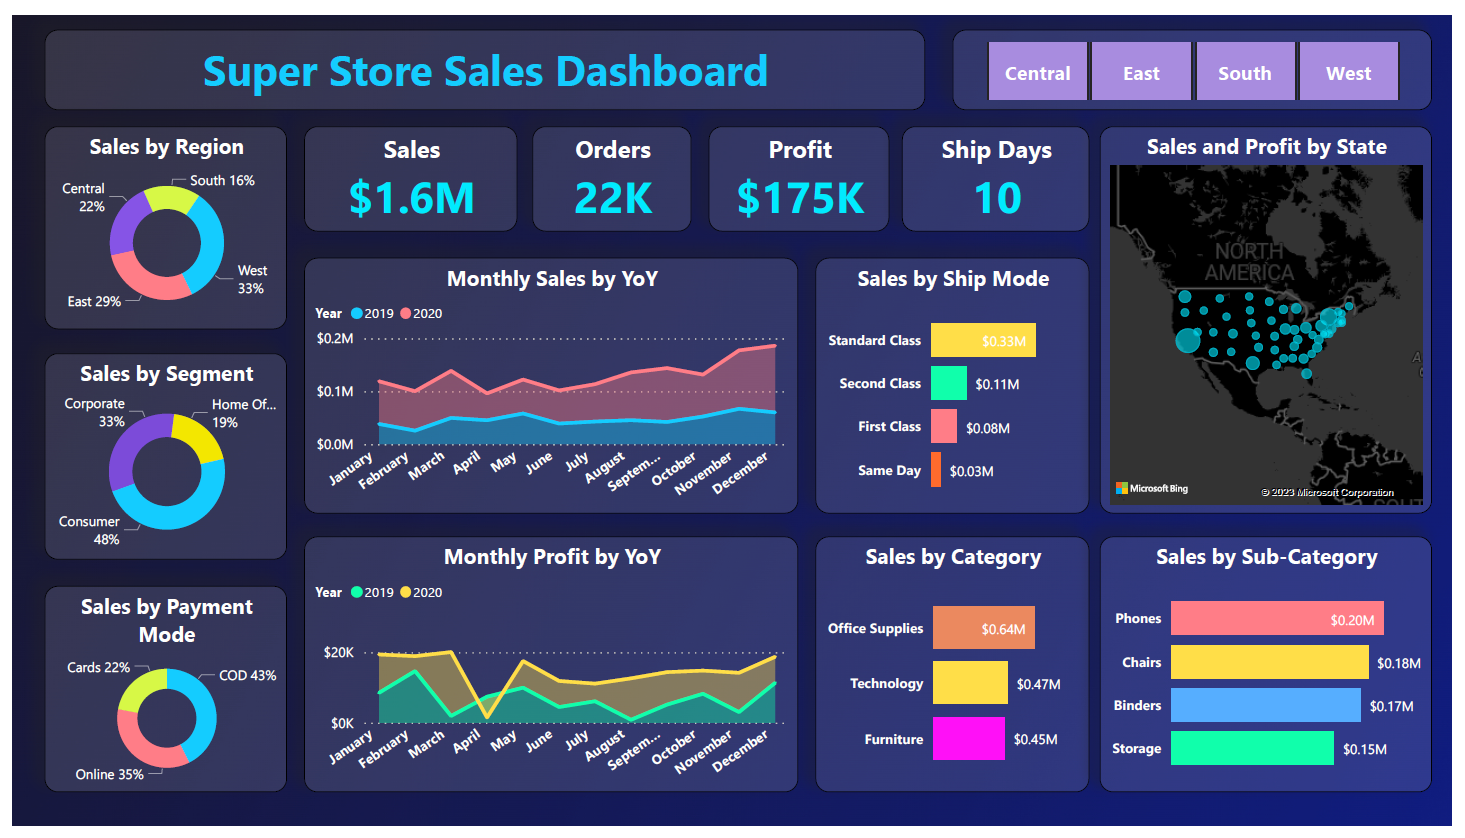

The dashboard page shown, as its layout file describes it:
{"tool":"powerbi","page":{"name":"Page 1","canvas":[1280,720],"ordinal":0},"visuals":[{"type":"clusteredBarChart","title":"Sales by Category","fields":{"Category":["SuperStore_Sales_Dataset.Category"],"Y":["Sum(SuperStore_Sales_Dataset.Sales)"]},"box":[714,463.1,243.6,227.9],"z":0},{"type":"clusteredBarChart","title":"Sales by Sub-Category","fields":{"Y":["Sum(SuperStore_Sales_Dataset.Sales)"],"Category":["SuperStore_Sales_Dataset.Sub-Category"]},"box":[967.2,463.1,295.5,227.9],"z":1000},{"type":"clusteredBarChart","title":"Sales by Ship Mode","fields":{"Y":["Sum(SuperStore_Sales_Dataset.Sales)"],"Category":["SuperStore_Sales_Dataset.Ship Mode"]},"box":[714,214.7,243.6,227.9],"z":2000},{"type":"stackedAreaChart","title":"Monthly Sales  by YoY","fields":{"Y":["Sum(SuperStore_Sales_Dataset.Sales)"],"Category":["SuperStore_Sales_Dataset.Order Date.Variation.Date Hierarchy.Month","SuperStore_Sales_Dataset.Order Date.Variation.Date Hierarchy.Day"],"Series":["SuperStore_Sales_Dataset.Order Date.Variation.Date Hierarchy.Year"]},"box":[259.3,214.7,440.2,227.9],"z":3000},{"type":"stackedAreaChart","title":"Monthly Profit by YoY","fields":{"Y":["Sum(SuperStore_Sales_Dataset.Profit)"],"Category":["SuperStore_Sales_Dataset.Order Date.Variation.Date Hierarchy.Month1","SuperStore_Sales_Dataset.Order Date.Variation.Date Hierarchy.Day"],"Series":["SuperStore_Sales_Dataset.Order Date.Variation.Date Hierarchy.Year"]},"box":[259.3,463.1,440.2,227.9],"z":4000},{"type":"map","title":"Sales and Profit by State","fields":{"Category":["SuperStore_Sales_Dataset.State"],"Size":["Sum(SuperStore_Sales_Dataset.Sales)"]},"box":[967.2,97.7,295.5,344.9],"z":5000},{"type":"donutChart","title":"Sales by Segment","fields":{"Category":["SuperStore_Sales_Dataset.Segment"],"Y":["Sum(SuperStore_Sales_Dataset.Sales)"]},"box":[27.7,300.3,215.9,183.3],"z":6000},{"type":"donutChart","title":"Sales by Payment Mode","fields":{"Category":["SuperStore_Sales_Dataset.Payment Mode"],"Y":["Sum(SuperStore_Sales_Dataset.Sales)"]},"box":[27.7,506.5,215.9,184.5],"z":7000},{"type":"slicer","fields":{"Values":["SuperStore_Sales_Dataset.Region"]},"box":[835.8,12.1,426.9,72.4],"z":8000},{"type":"textbox","box":[27.7,12.1,783.9,72.4],"z":9000},{"type":"card","title":"Sales","fields":{"Values":["Sum(SuperStore_Sales_Dataset.Sales)"]},"box":[259.3,97.7,189.3,94.1],"z":10000},{"type":"card","title":"Orders","fields":{"Values":["Sum(SuperStore_Sales_Dataset.Quantity)"]},"box":[461.9,97.7,142.3,94.1],"z":11000},{"type":"card","title":"Profit","fields":{"Values":["Sum(SuperStore_Sales_Dataset.Profit)"]},"box":[618.7,97.7,161.6,94.1],"z":12000},{"type":"card","title":"Ship  Days","fields":{"Values":["Avg(SuperStore_Sales_Dataset.AvgDelivery)"]},"box":[791.2,97.7,166.4,94.1],"z":13000},{"type":"donutChart","title":"Sales by Region","fields":{"Y":["Sum(SuperStore_Sales_Dataset.Sales)"],"Category":["SuperStore_Sales_Dataset.Region"]},"box":[27.7,97.7,215.9,180.9],"z":14000}]}

Visuals, with their boxes in screenshot pixels (x1, y1, x2, y2), scaled from the page's 1280x720 canvas onto the 1465x838 screenshot:
"Sales by Category" clusteredBarChart: Rect(817, 539, 1096, 804)
"Sales by Sub-Category" clusteredBarChart: Rect(1107, 539, 1445, 804)
"Sales by Ship Mode" clusteredBarChart: Rect(817, 250, 1096, 515)
"Monthly Sales  by YoY" stackedAreaChart: Rect(297, 250, 801, 515)
"Monthly Profit by YoY" stackedAreaChart: Rect(297, 539, 801, 804)
"Sales and Profit by State" map: Rect(1107, 114, 1445, 515)
"Sales by Segment" donutChart: Rect(32, 350, 279, 563)
"Sales by Payment Mode" donutChart: Rect(32, 590, 279, 804)
slicer - SuperStore_Sales_Dataset.Region: Rect(957, 14, 1445, 98)
textbox: Rect(32, 14, 929, 98)
"Sales" card: Rect(297, 114, 513, 223)
"Orders" card: Rect(529, 114, 692, 223)
"Profit" card: Rect(708, 114, 893, 223)
"Ship  Days" card: Rect(906, 114, 1096, 223)
"Sales by Region" donutChart: Rect(32, 114, 279, 324)
